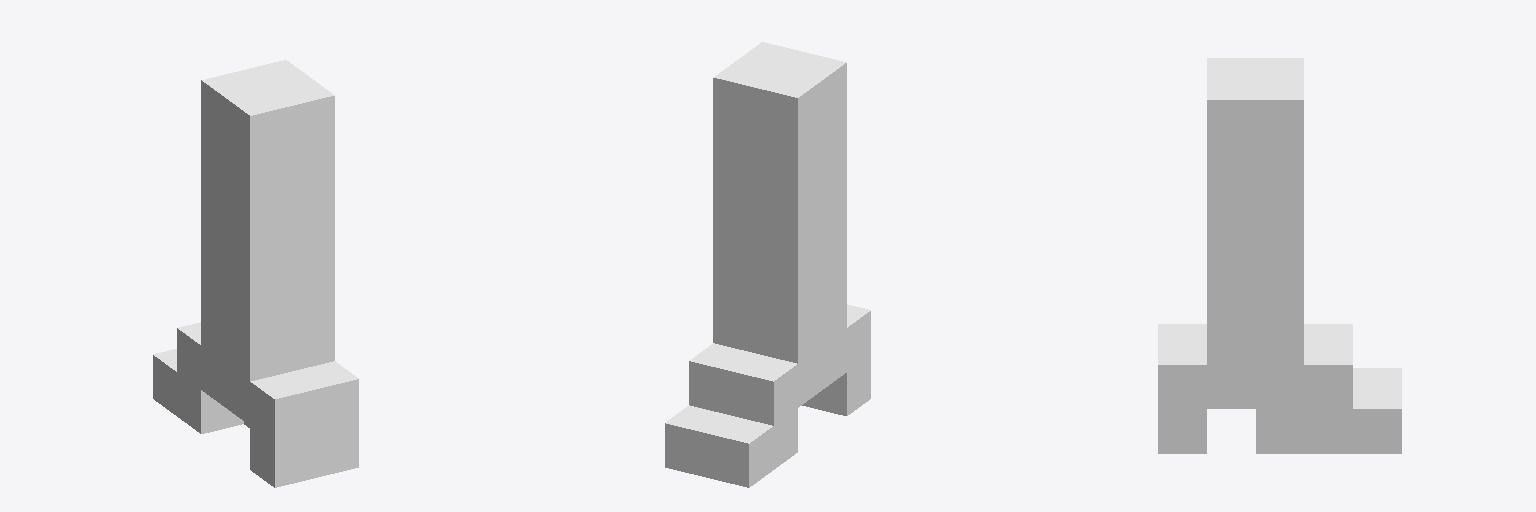
Rendered from JAMBE-L.obj.
The picture shows the model from 3 angles: view 1: azimuth 30°, elevation 25°; view 2: azimuth 150°, elevation 25°; view 3: azimuth 270°, elevation 25°; orthographic projection.
Parts seen in each view (by area): view 1: object 1; view 2: object 1; view 3: object 1.
Part boxes in pixels (bbox=[...]): object 1: bbox=[153, 60, 358, 487]; object 1: bbox=[665, 42, 870, 487]; object 1: bbox=[1158, 58, 1401, 453].
Bounding box in the file's own units: 0.2 × 0.8 × 0.5.